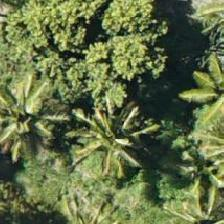coconut_tree: (71, 100, 161, 190), (0, 64, 62, 154), (171, 54, 223, 144), (48, 177, 138, 223), (162, 177, 223, 223)
